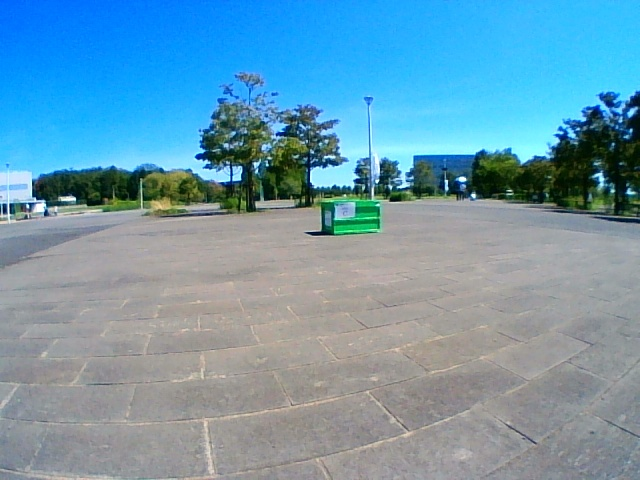green_box: (321, 199, 381, 235)
tag: (335, 204, 354, 218)
